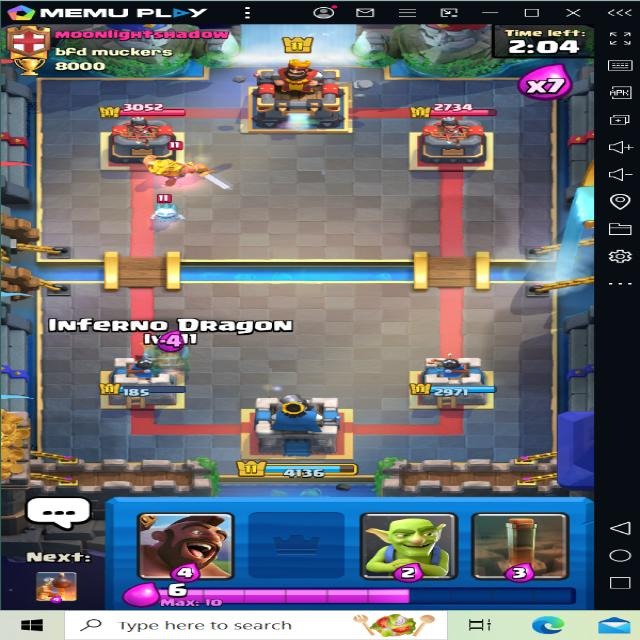Goldenknight: (142, 139, 235, 193)
Goldenknightability: (142, 140, 235, 192)
Icespirit: (148, 200, 186, 226)
